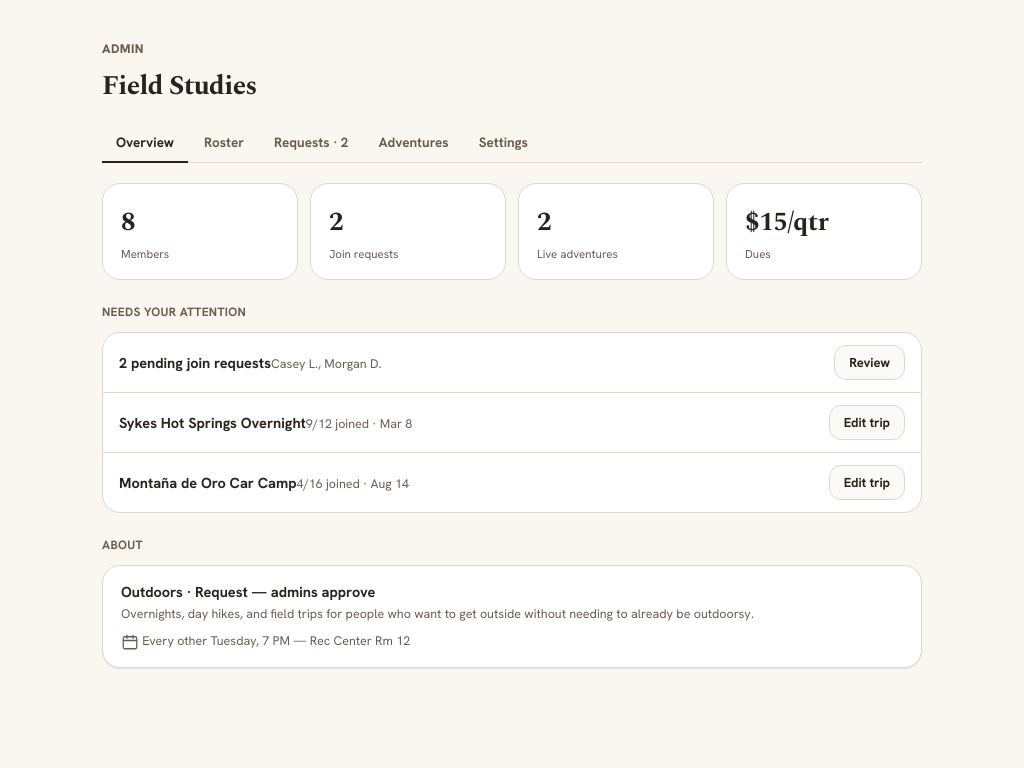
Test: Manage a Club › approves every request down to the requests-empty banner
Click the button "Requests · 2" at [311, 143], box x1=260 y1=123 x2=362 y2=163
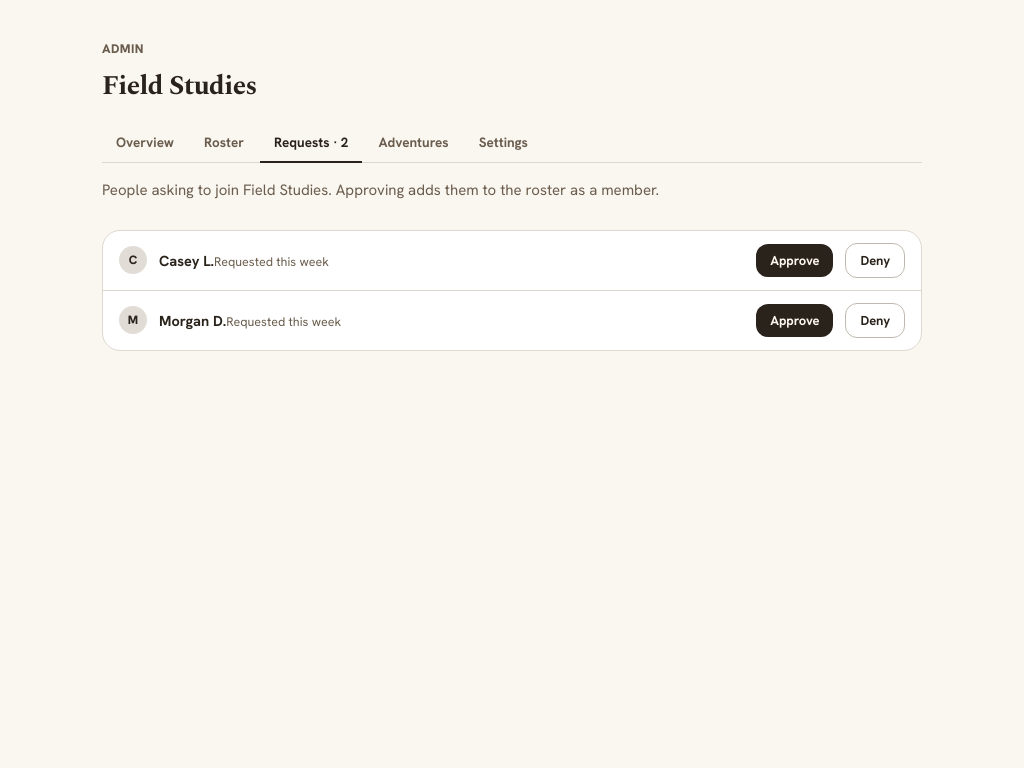
Expected: the text "Casey L." is shown, x1=159 y1=250 x2=214 y2=270
Expected: the text "Morgan D." is shown, x1=159 y1=310 x2=226 y2=330
Click the button "Approve" in the row of "Casey L." at [795, 260], box x1=756 y1=244 x2=834 y2=276
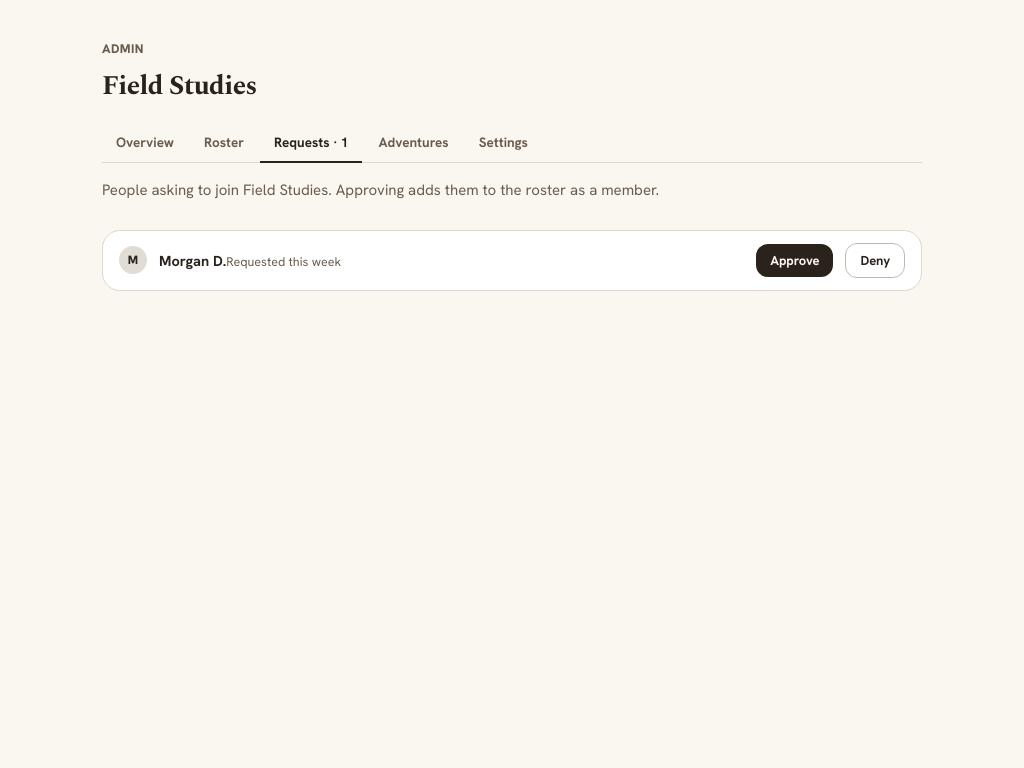
Click the button "Approve" at [795, 260], box x1=756 y1=244 x2=834 y2=276
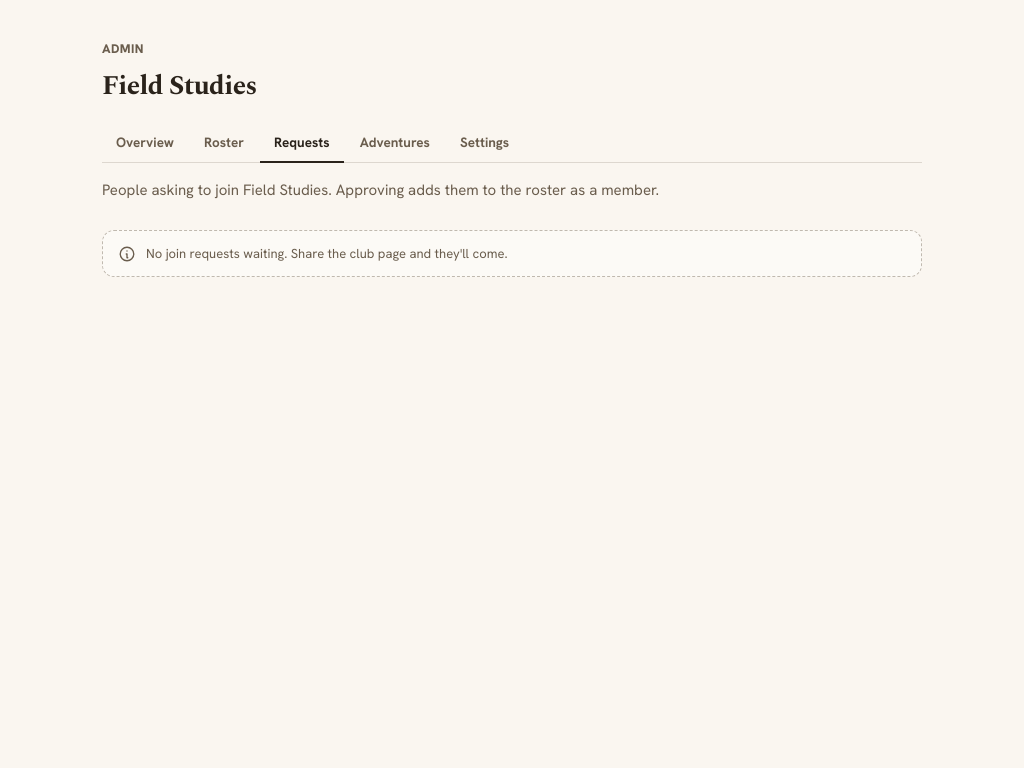
Expected: the text "Casey L." is not shown
Expected: the text "No join requests waiting" is shown, x1=146 y1=244 x2=508 y2=262
